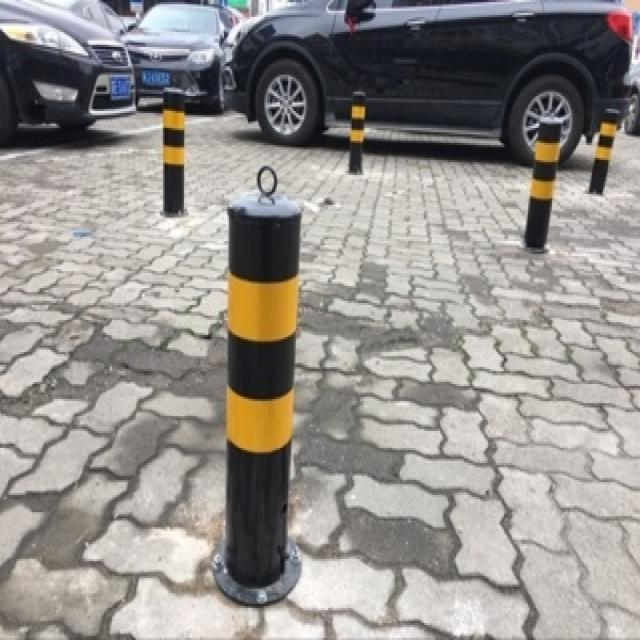car: (216, 0, 632, 169), (0, 0, 136, 137), (117, 0, 227, 111)
reflective_cone: (154, 79, 190, 215)
warning_column: (213, 160, 299, 602), (515, 106, 565, 252), (584, 105, 622, 192), (341, 87, 365, 173)
